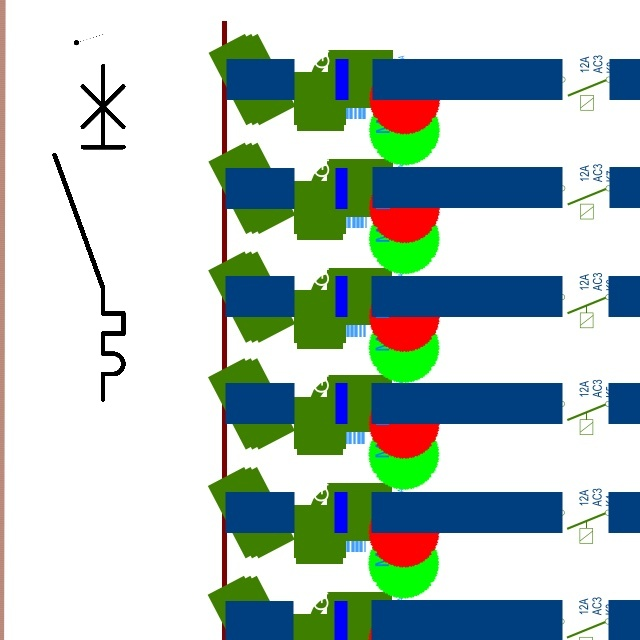interruptor_termomagnetico: (46, 57, 132, 407)
